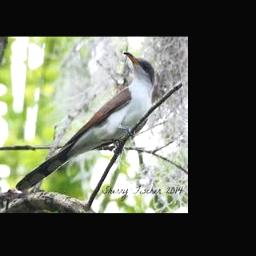Cuckoo: (15, 52, 154, 191)
